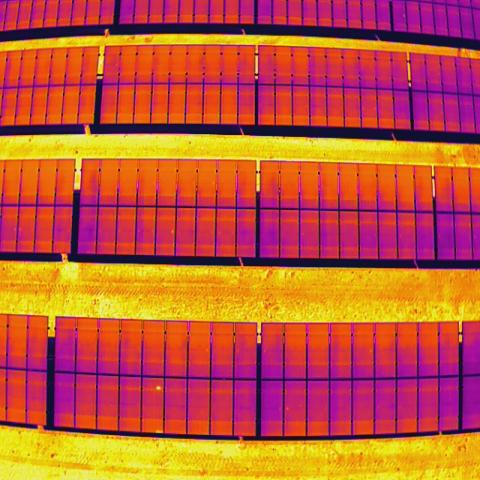fault: (154, 383, 163, 392), (154, 427, 164, 435), (170, 227, 174, 234)
